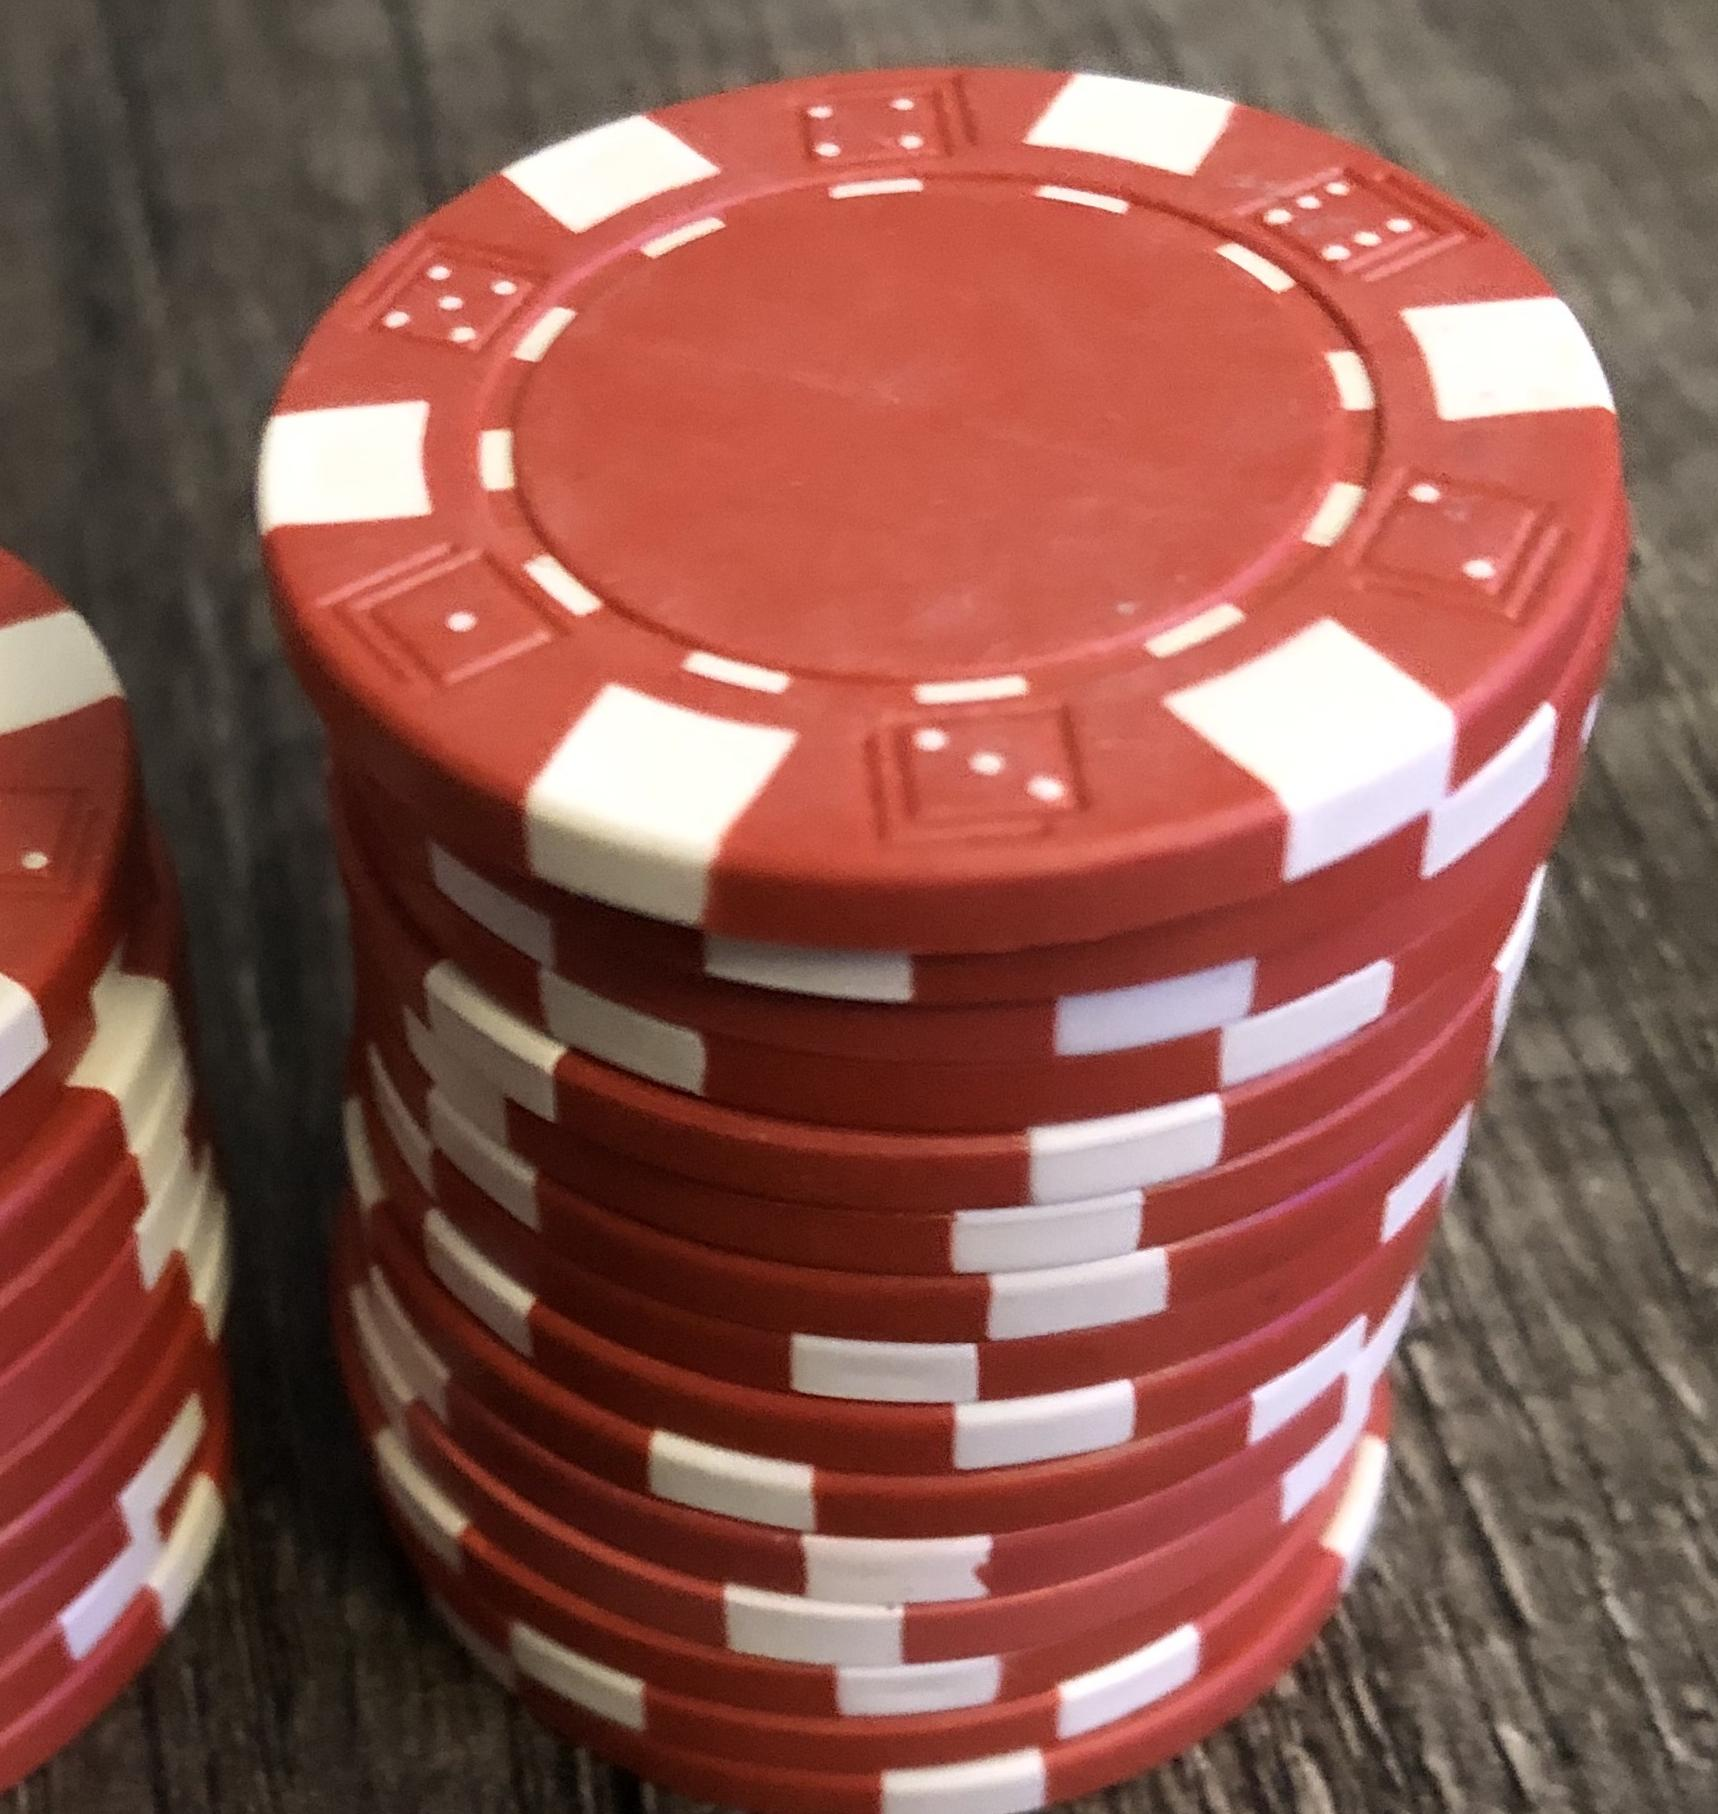Chip: (2, 2, 1718, 1814)
